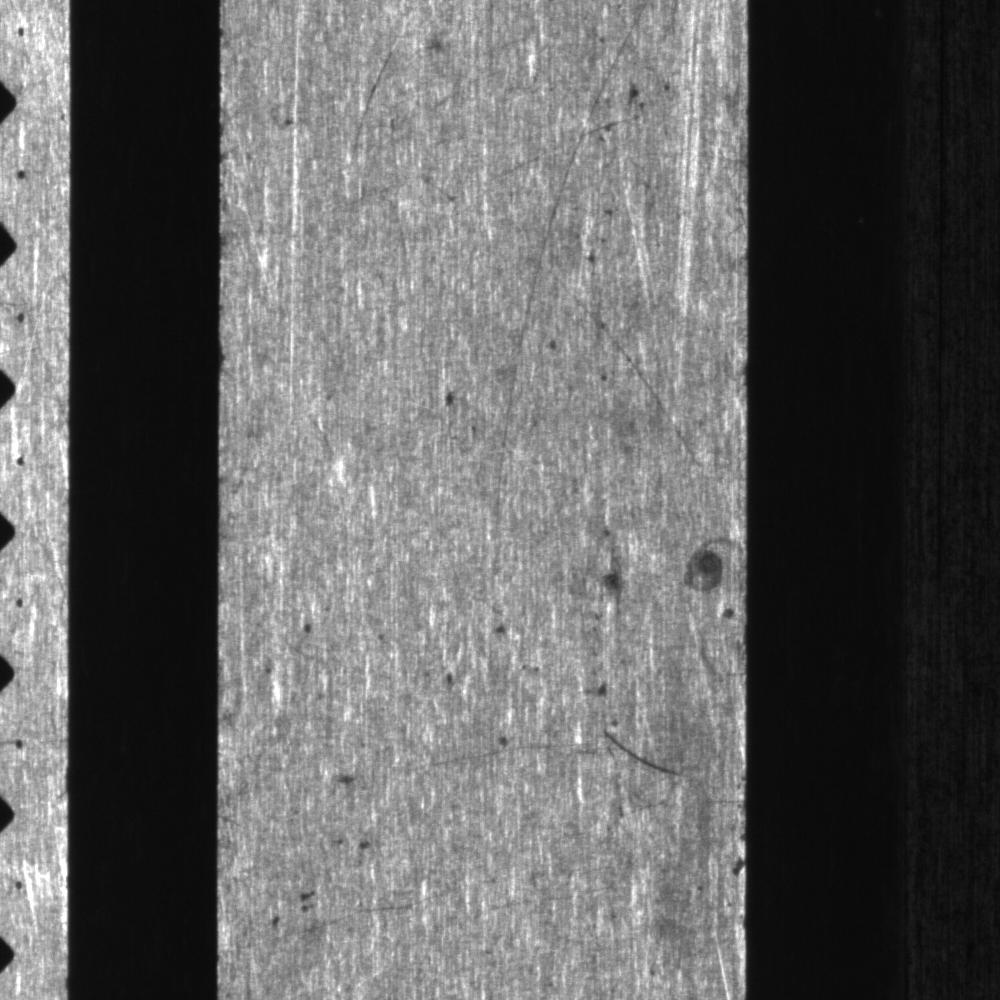Discolor: (669, 537, 734, 599)
Etching: (587, 513, 631, 700), (713, 734, 751, 935), (314, 751, 376, 865), (489, 606, 540, 684), (574, 204, 627, 267), (265, 880, 323, 930), (623, 76, 645, 128), (423, 661, 461, 691), (438, 383, 462, 413)
Pinhole: (295, 615, 316, 637)
Scar: (525, 10, 651, 271), (576, 289, 700, 480), (470, 278, 554, 559), (390, 715, 573, 787), (341, 8, 413, 170), (586, 710, 679, 793)
